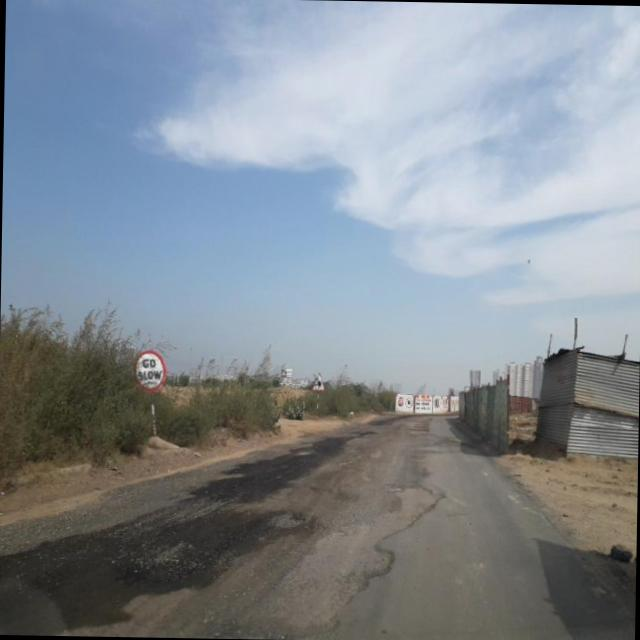pothole: (144, 437, 461, 640), (0, 463, 292, 639), (259, 501, 314, 534)
